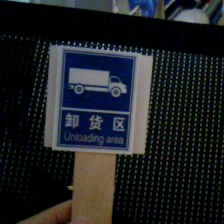unload: (52, 46, 146, 150)
